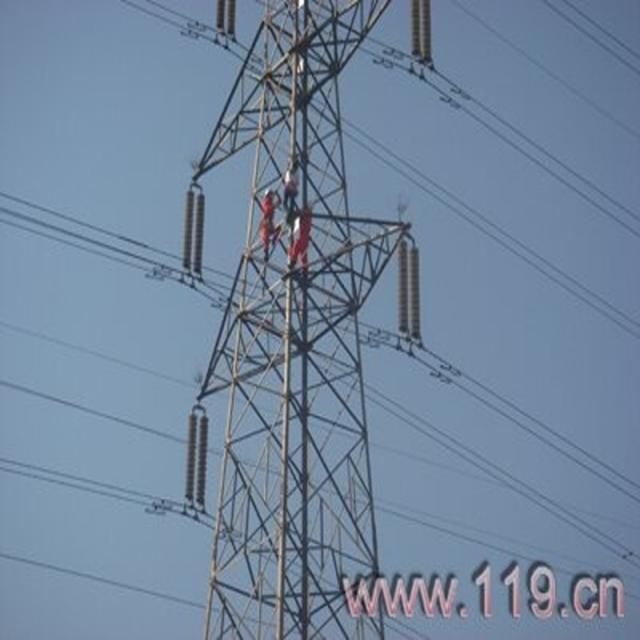non-critical vegetation: (157, 8, 466, 632)
